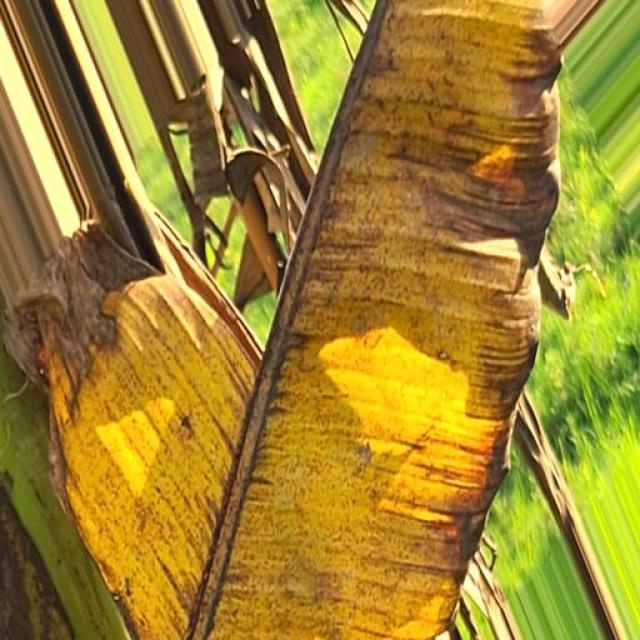Cordana: (29, 0, 582, 640)
